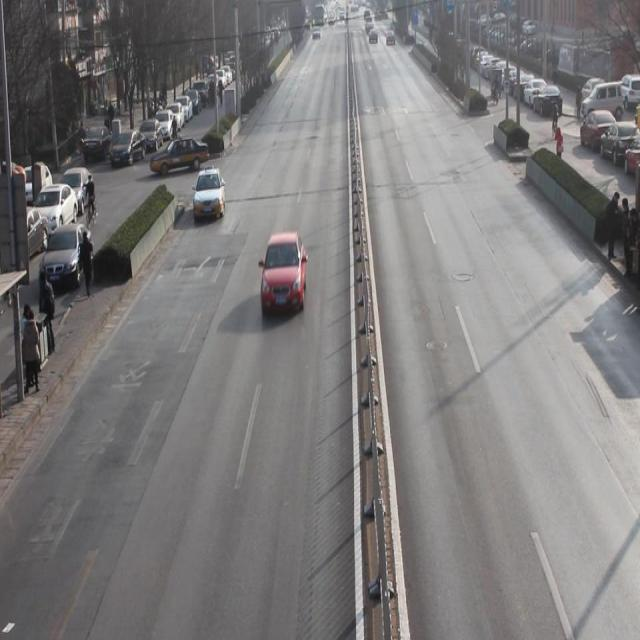car: (258, 229, 305, 315), (194, 163, 227, 223)
